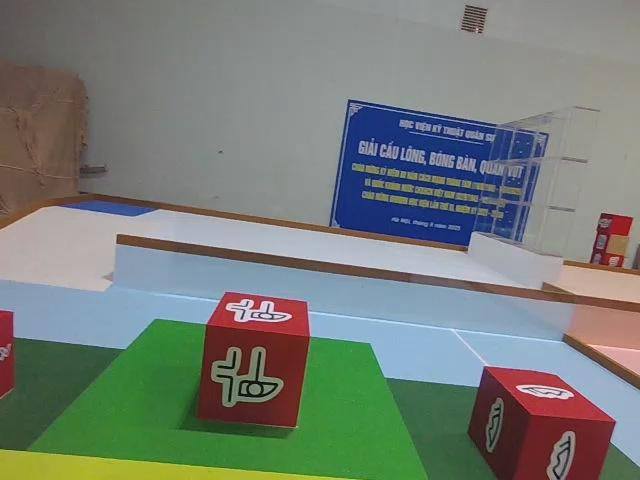R2 Real: (467, 363, 617, 480), (196, 292, 313, 430)
